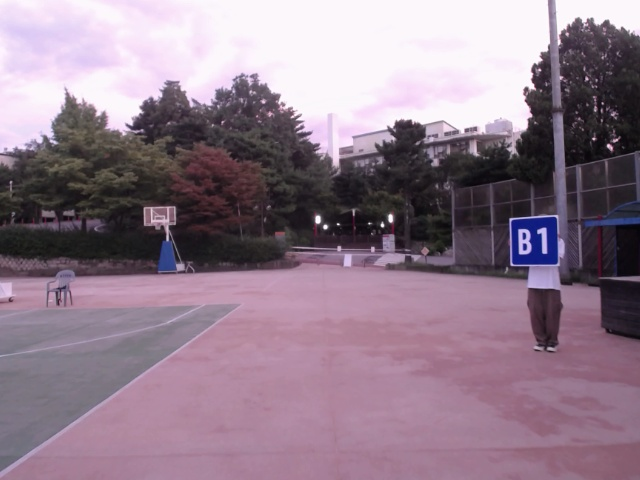delivery_b1: (509, 215, 559, 266)
